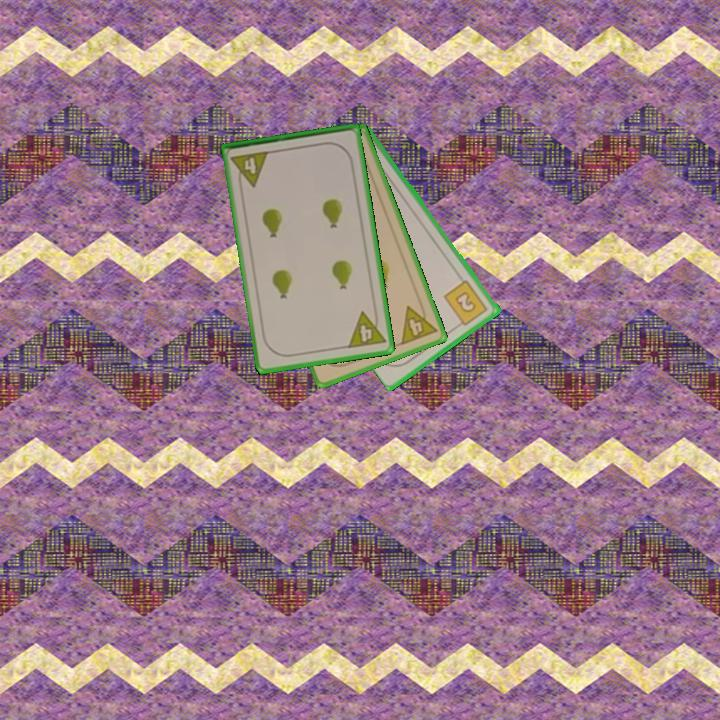2b: (441, 277, 491, 330)
4p: (397, 298, 440, 348), (344, 306, 388, 351), (228, 147, 272, 191)
